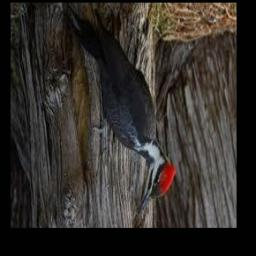Woodpecker: (67, 5, 177, 217)
